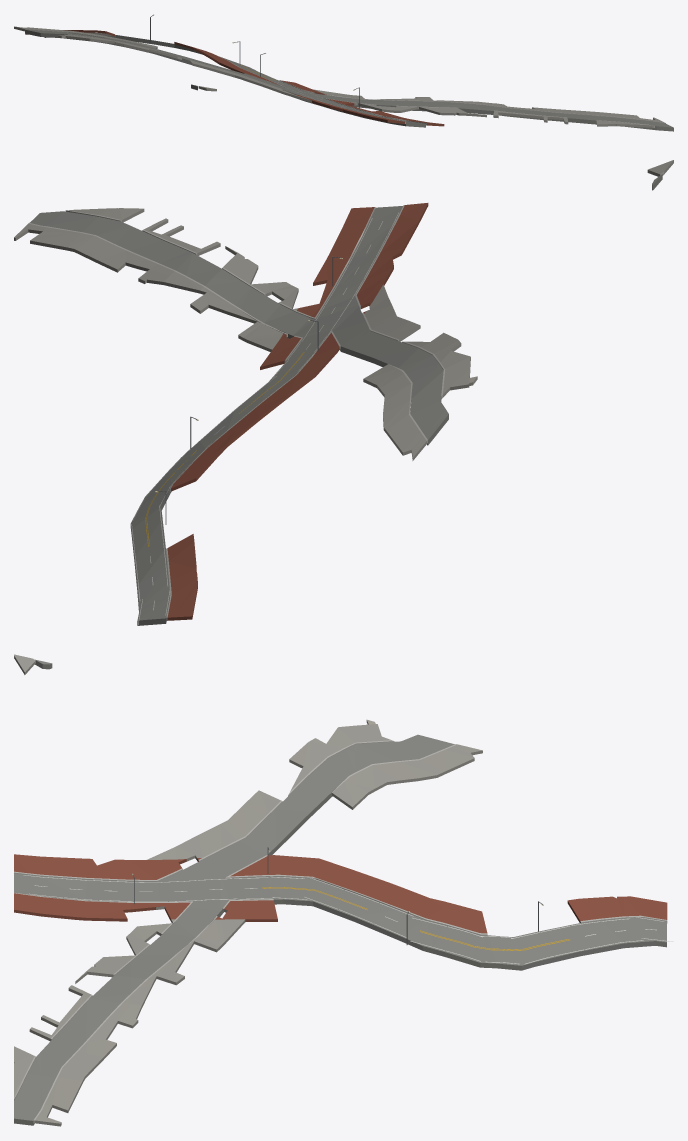
The picture shows the model from 3 angles, top to bottom: view 1: azimuth 30°, elevation 25°; view 2: azimuth 150°, elevation 25°; view 3: azimuth 270°, elevation 25°; orthographic projection. The views are drawn at different scales.
Bounding box in the file's own units: 147 × 53.48 × 147.
